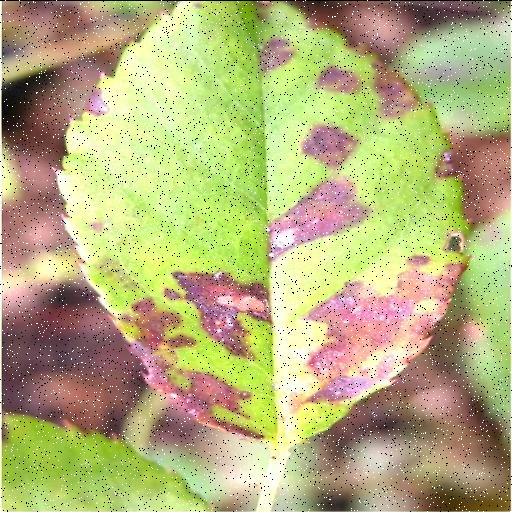downy_mildew: (59, 1, 467, 446)
